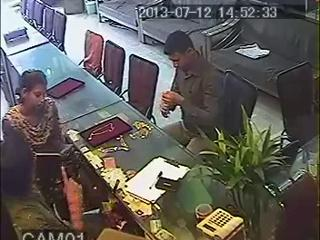Normal: (178, 105, 302, 240), (0, 68, 70, 198), (159, 30, 225, 148), (2, 69, 65, 153), (276, 61, 318, 150), (222, 70, 258, 137), (79, 116, 133, 149)
